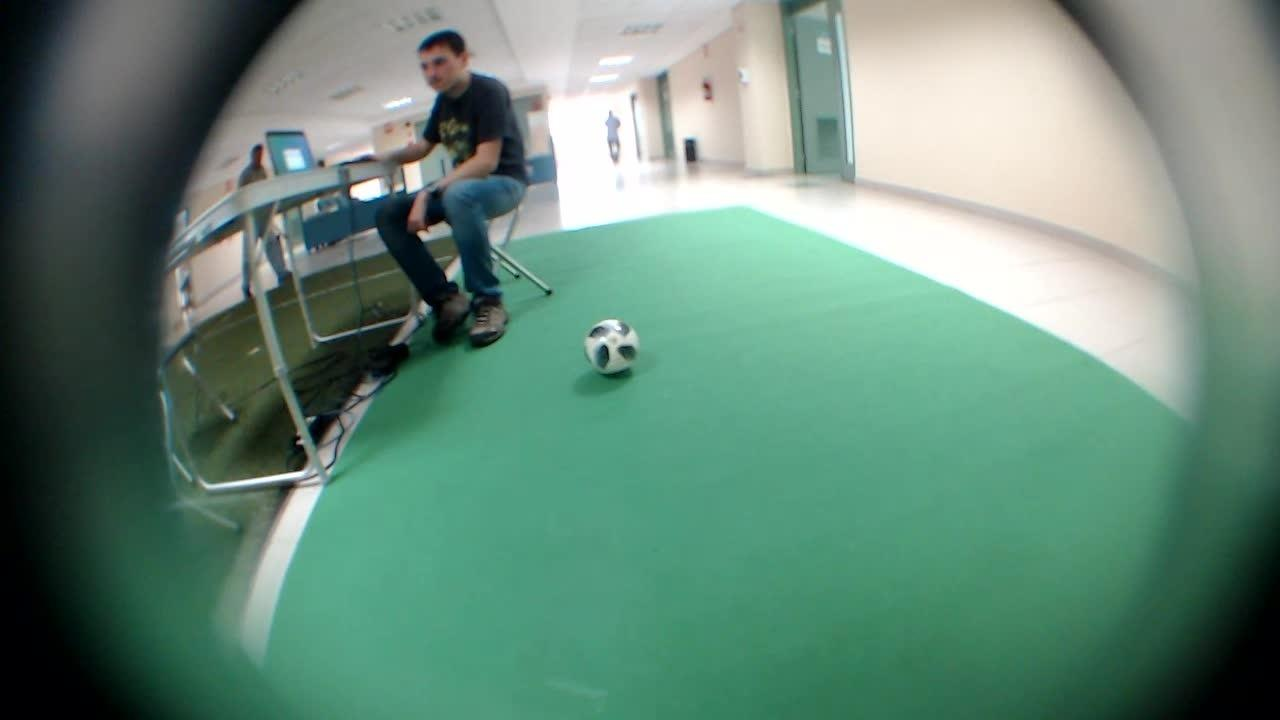ball: (575, 307, 649, 395)
